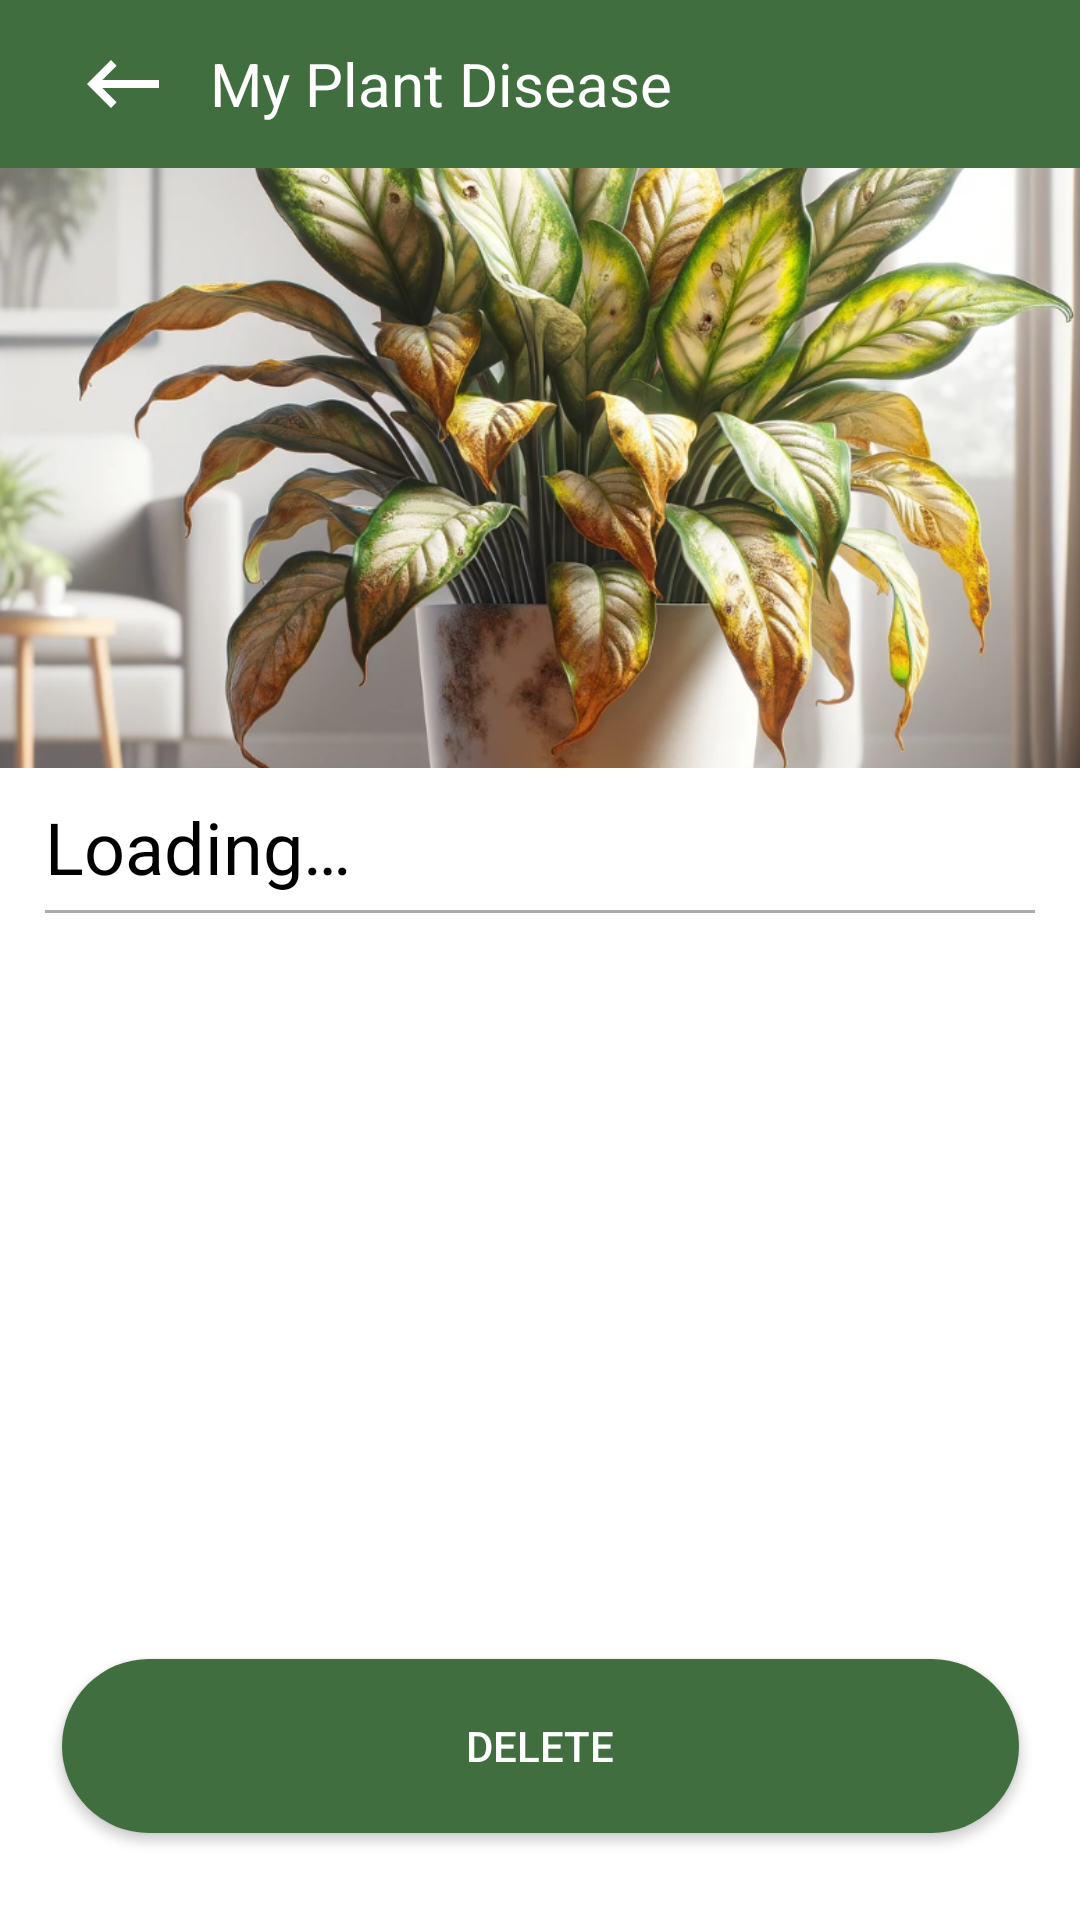

Named icons in this screenshot (1080 x 1920) and their centers, [x,y]:
Back button: [123,84]
